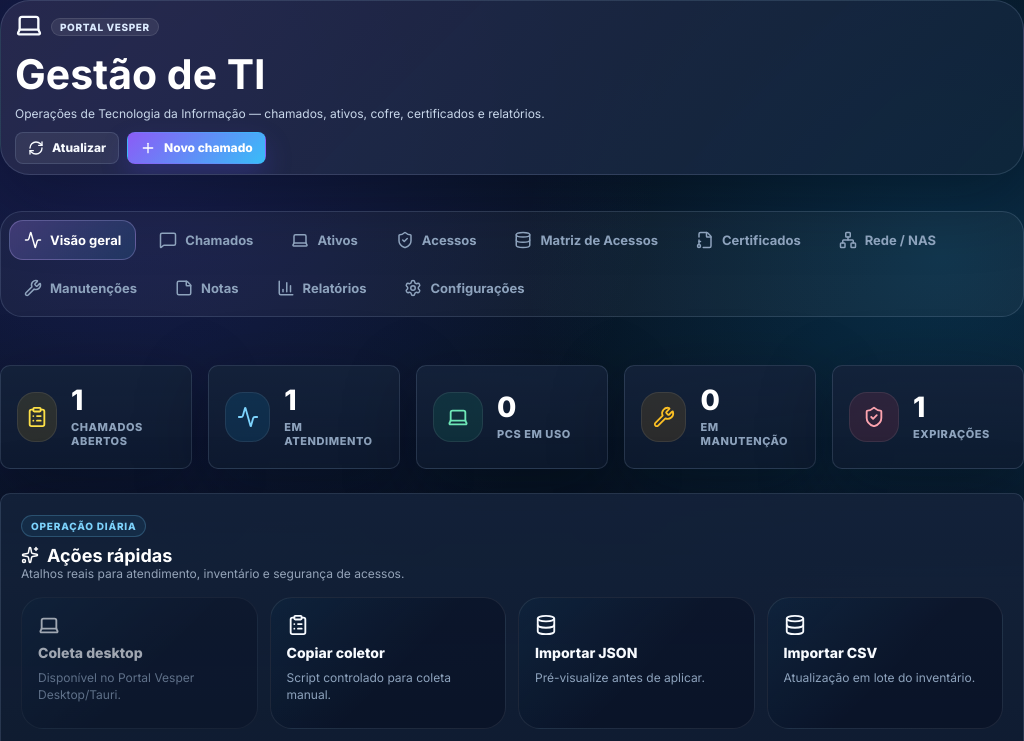
Scenario: ITPage › renderiza relatorios de TI e aba notas
Navega para a aba Relatórios
Click the tab "Relatórios" at (321, 288), box [262,268,381,308]
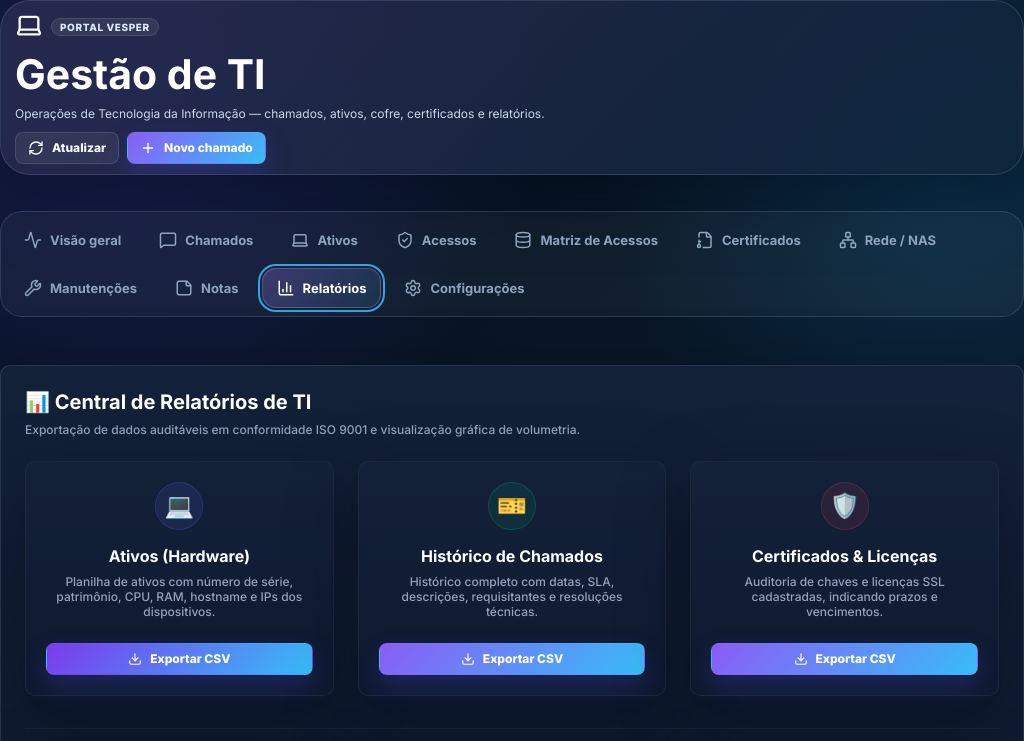
Expected: the text "Planilha de ativos com número de série" is shown, [56,574,302,619]
Expected: the heading "Histórico de Chamados" is shown, [421,546,603,566]
